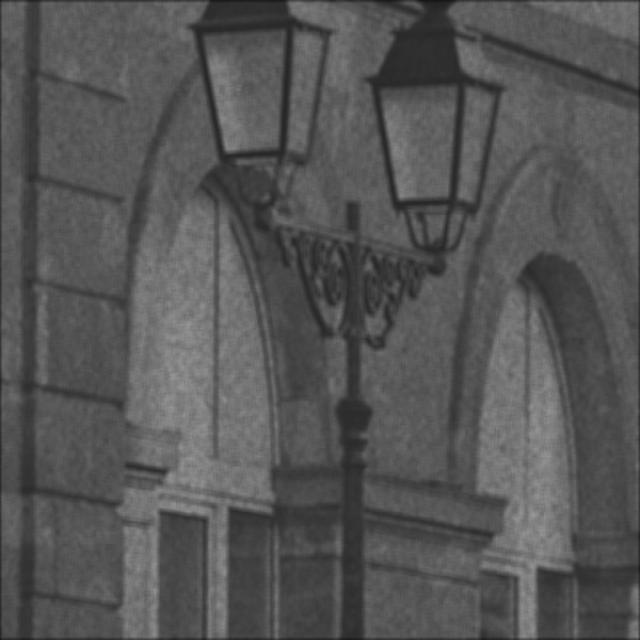lamp_bulb: (177, 7, 333, 166), (362, 58, 512, 215)
